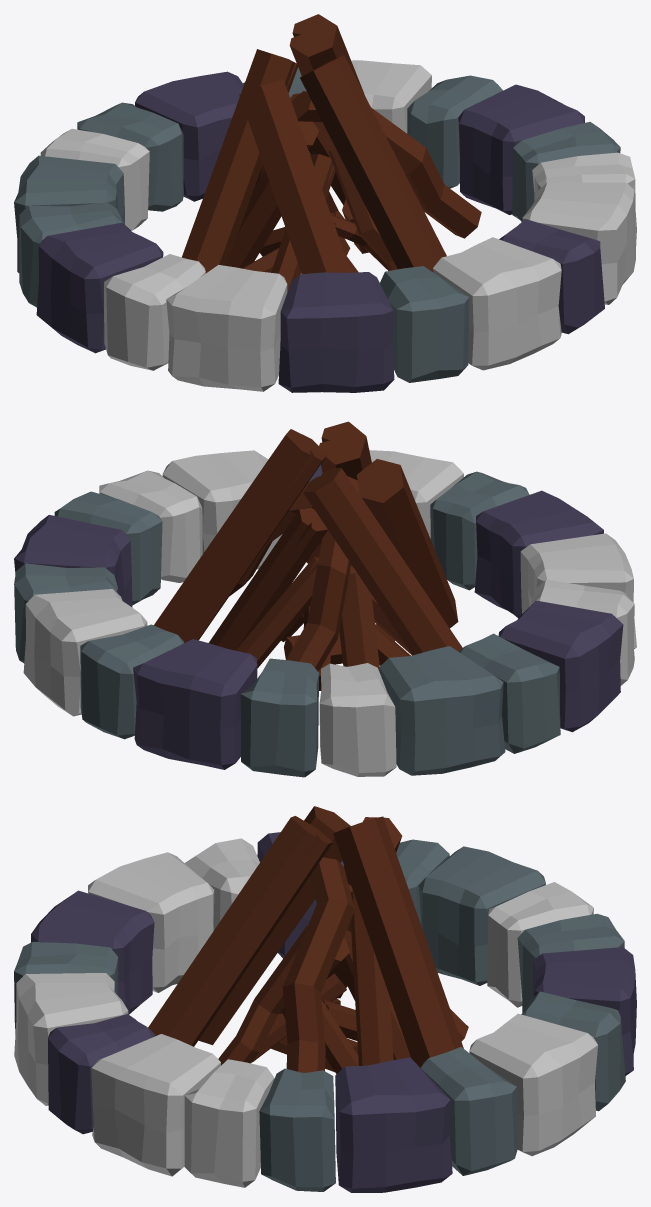
The model's file is GlowCorePhase2.fbx.
3 renders of one model, top to bottom at view 1: azimuth 30°, elevation 25°; view 2: azimuth 150°, elevation 25°; view 3: azimuth 270°, elevation 25°, orthographic. The views are drawn at different scales.
Visible parts, largest first — view 1: Stone12, Stone13, Stone10, Log16, Log15, Stone15, Stone05, Stone11, Log13, Stone14, Stone08, Stone01 (+16 smaller); view 2: Stone17, Stone01, Log17, Log13, Stone15, Stone03, Stone19, Stone18, Stone12, Stone16, Stone02, Log15 (+18 smaller); view 3: Stone05, Log17, Log16, Stone08, Stone03, Stone17, Stone13, Stone07, Stone06, Log14, Stone04, Stone10 (+17 smaller).
Boxes of the visible parts, x1,y1,x2,y2 form: Stone12: (278,272,394,392); Stone13: (166,265,287,391); Stone10: (433,237,561,370); Log16: (300,55,446,272); Log15: (239,79,350,273); Stone15: (36,222,163,353); Stone05: (458,84,584,214); Stone11: (380,266,469,382); Log13: (182,49,298,273); Stone14: (104,254,205,370); Stone08: (522,182,635,304); Stone01: (135,71,243,201); Stone17: (379,646,505,775); Stone01: (133,639,257,769); Log17: (154,429,327,642); Log13: (303,468,462,655); Stone15: (498,600,623,732); Stone03: (23,589,147,716); Stone19: (240,658,318,777); Stone18: (319,663,396,776); Stone12: (474,490,603,617); Stone16: (459,633,560,753); Stone02: (80,624,184,739); Log15: (356,459,458,628); Stone05: (335,1057,452,1192); Log17: (333,816,463,1067); Log16: (148,816,332,1046); Stone08: (91,1034,220,1176); Stone03: (469,1013,597,1155); Stone17: (418,846,545,985); Stone13: (88,852,214,992); Stone07: (184,1059,274,1187); Stone06: (259,1068,335,1191); Log14: (282,857,354,1072); Stone04: (421,1047,517,1175); Stone10: (14,973,128,1105).
Bounding box in the file's own units: 313 × 132 × 292.
